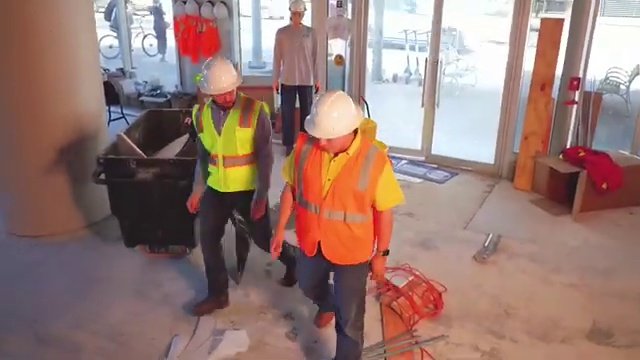helmet: (299, 89, 373, 140), (190, 53, 253, 95), (286, 1, 315, 14)
jacket: (296, 143, 391, 272), (185, 104, 276, 202)
